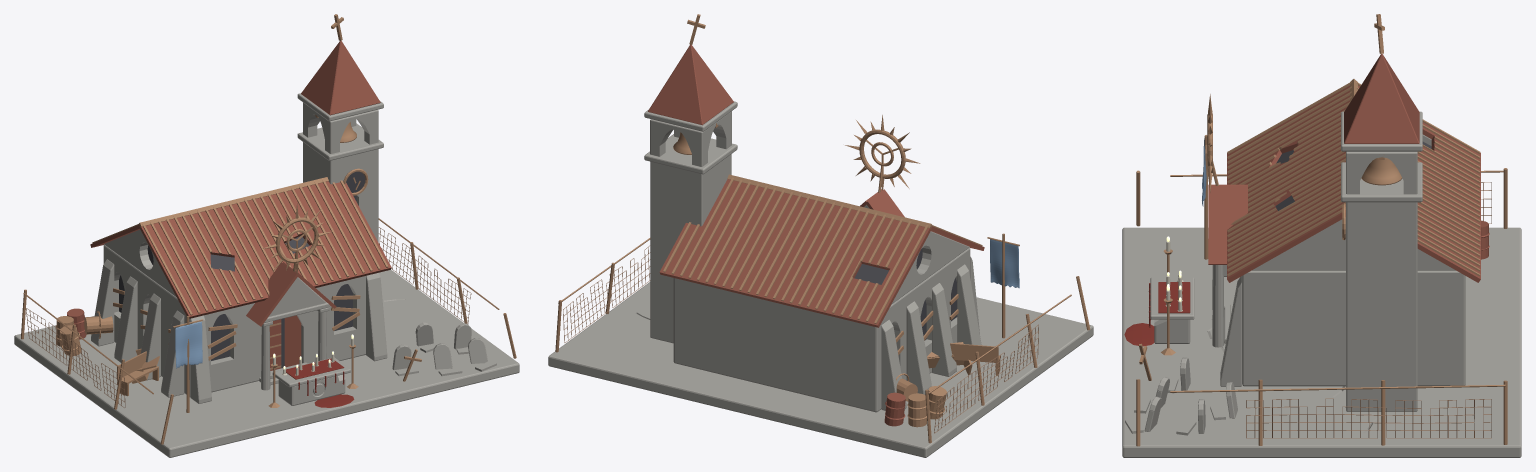
Rendered from altar.glb.
The picture shows the model from 3 angles, left to right: view 1: azimuth 30°, elevation 25°; view 2: azimuth 150°, elevation 25°; view 3: azimuth 270°, elevation 25°; orthographic projection. The views are drawn at different scales.
Visible parts, largest first — view 1: FogAltar; view 2: FogAltar; view 3: FogAltar.
Boxes of the visible parts, x1=… form: FogAltar: x1=14, y1=14, x2=519, y2=457; FogAltar: x1=548, y1=14, x2=1093, y2=457; FogAltar: x1=1122, y1=14, x2=1521, y2=457.
Size of the model in its own units: 13.17 by 10.83 by 10.
